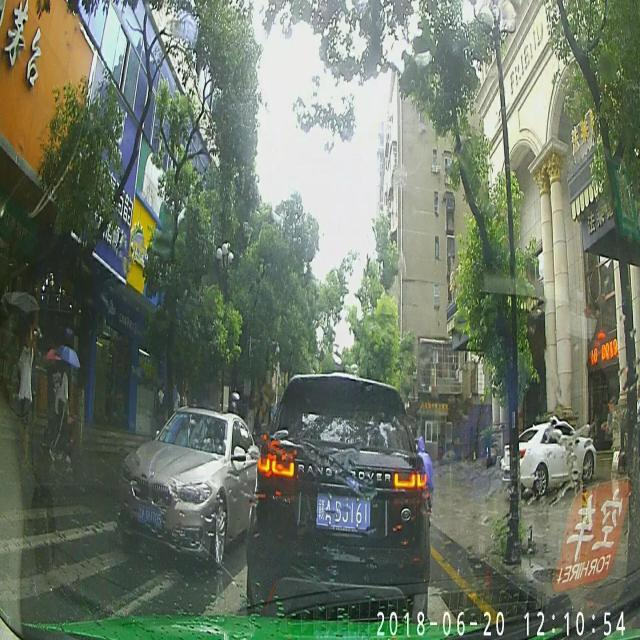car: (245, 372, 430, 618), (117, 409, 262, 560), (504, 418, 596, 496)
